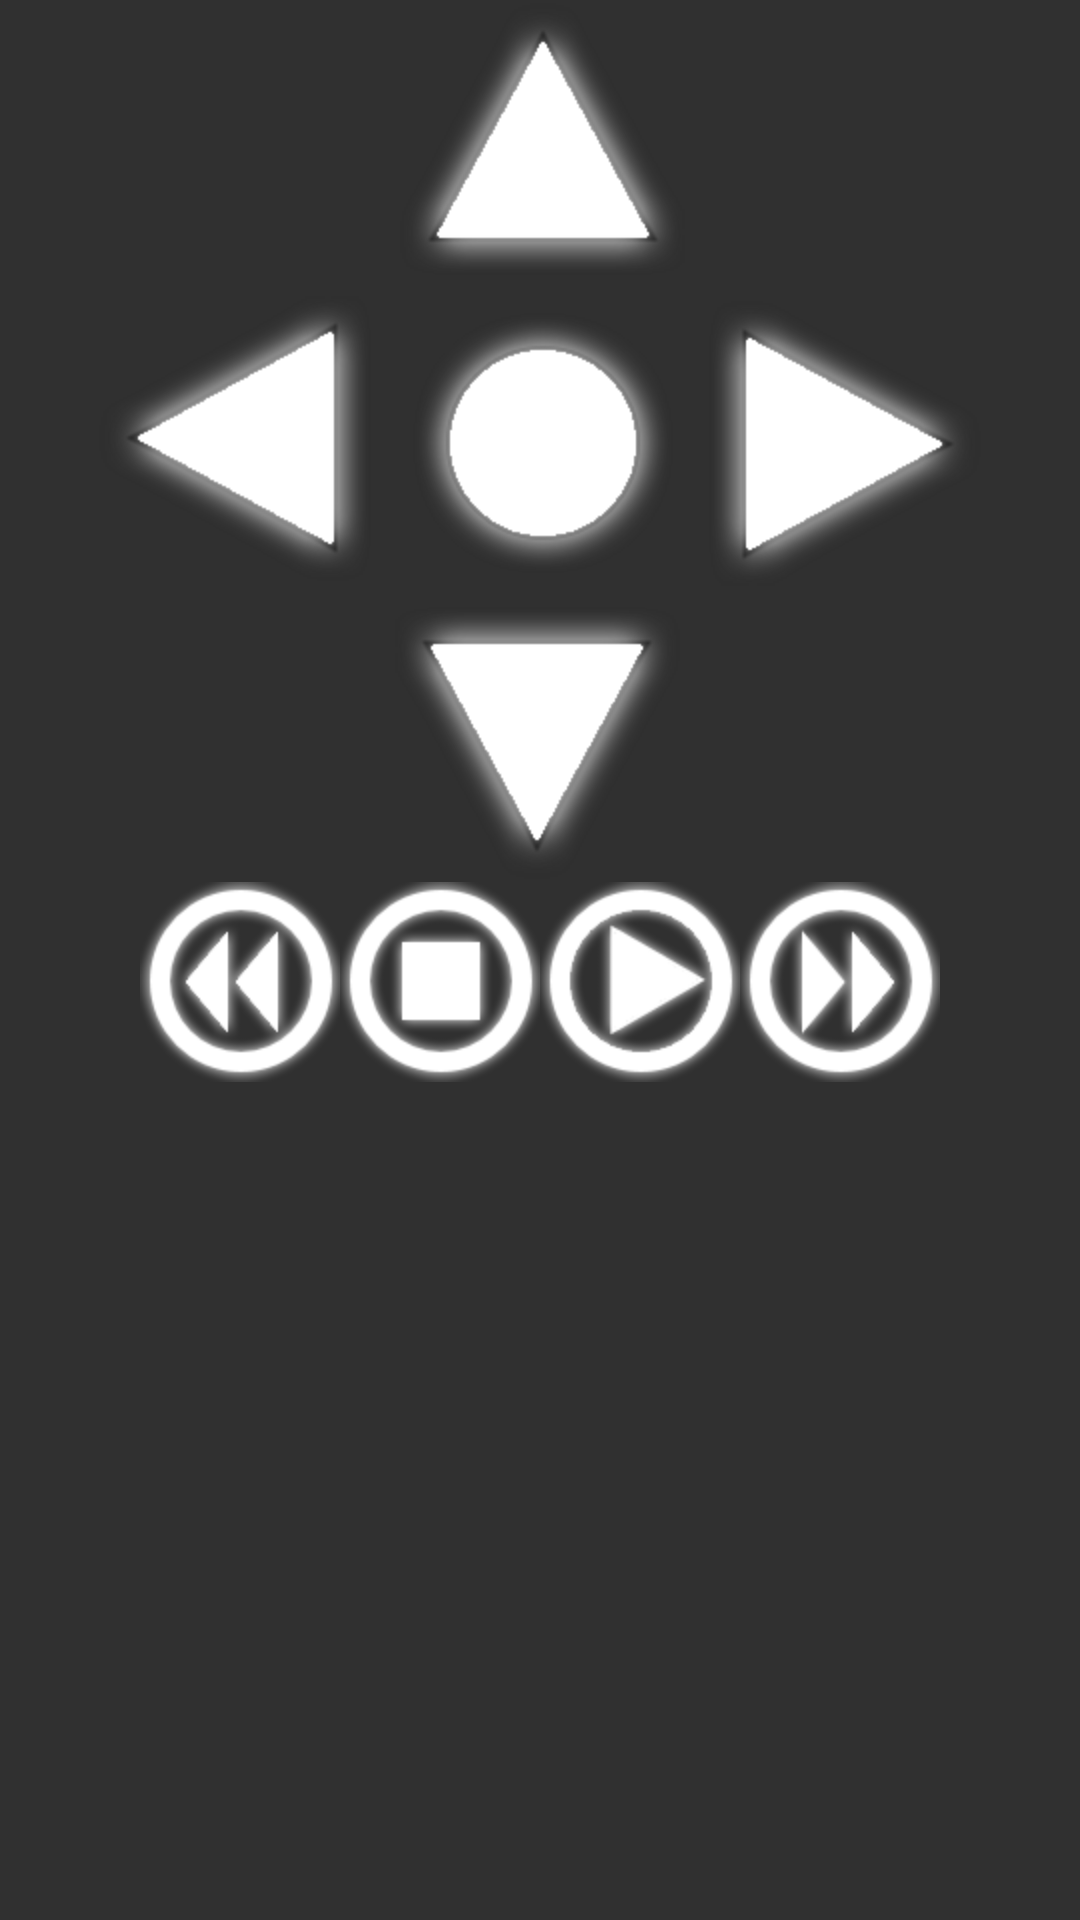

Screen size 1080*1920. Icon name, then its box in pixels as [x1,y1,x2,y2]:
backward passive: [142,882,340,1080]
forward passive: [742,882,940,1080]
play passive: [542,882,740,1080]
remote center: [430,330,656,556]
remote down: [418,623,655,848]
remote left: [130,319,355,556]
remote right: [725,326,950,563]
remote up: [425,34,662,259]
stop passive: [342,882,540,1080]
